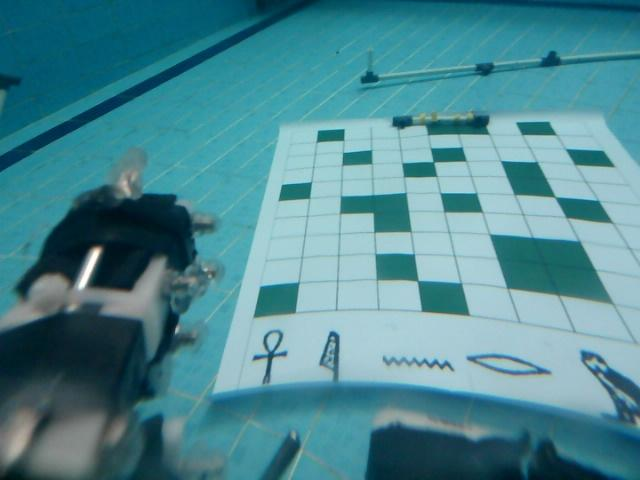Ankh: (251, 330, 288, 389)
Mouth: (461, 346, 556, 381)
Owl: (577, 349, 640, 428)
Reed: (319, 326, 343, 384)
Water: (384, 349, 456, 376)
